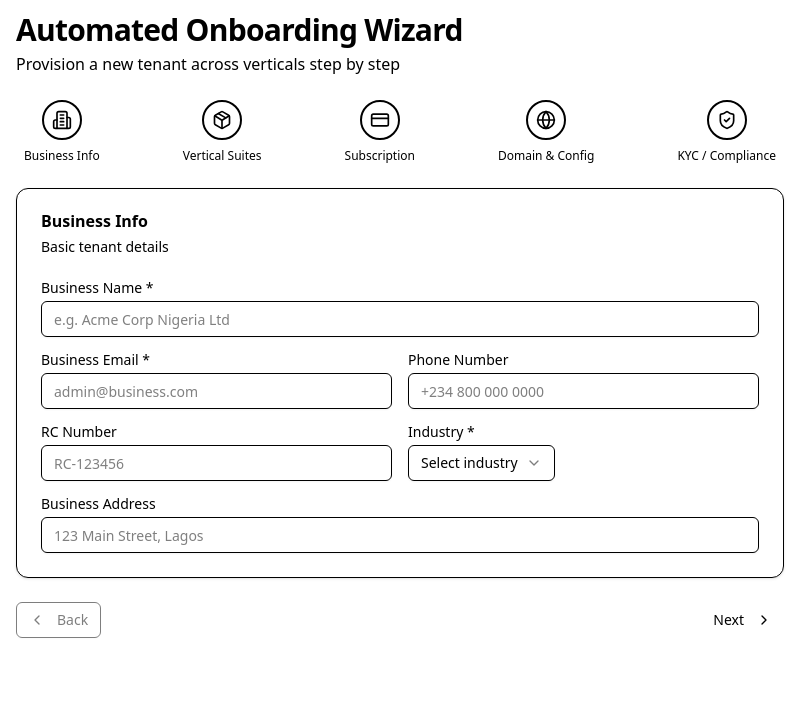
Automated Onboarding Wizard (QA-SUP-3) › shows validation error if email is missing on step 1
The image size is (804, 702).
Type "Acme Corp" into the field labelled "Business Name *" at [400, 319], box [41,301,759,337]
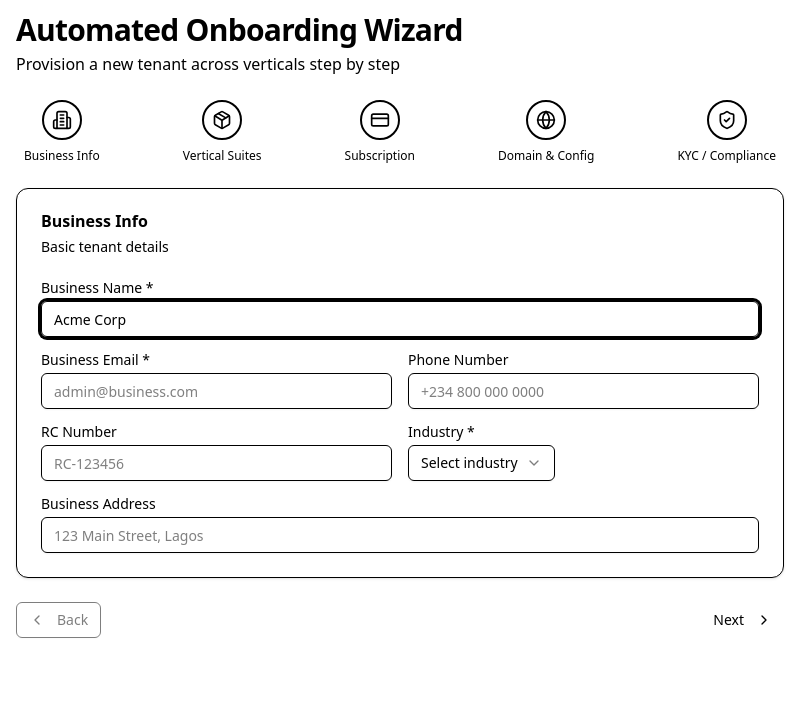
Click the button "Next" at [743, 620], box [701,602,784,638]
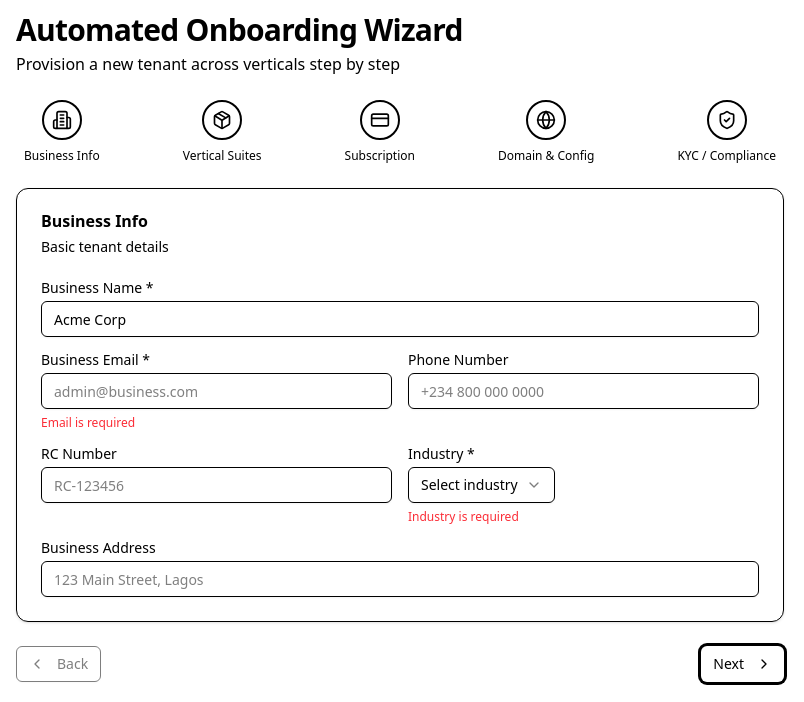
Now the text "Email is required" is shown, box [41,414,135,431]
